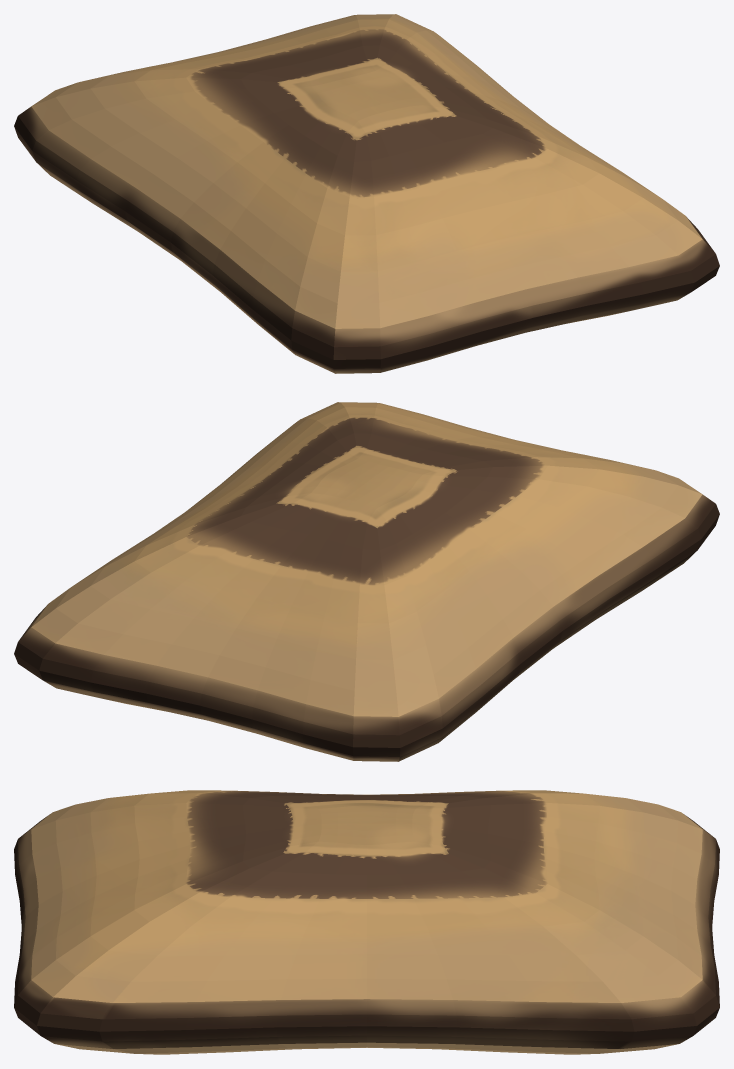
The model's file is Pillow.fbx.
3 renders of one model, top to bottom at view 1: azimuth 30°, elevation 25°; view 2: azimuth 150°, elevation 25°; view 3: azimuth 270°, elevation 25°, orthographic. The views are drawn at different scales.
Visible parts, largest first — view 1: Cube.001; view 2: Cube.001; view 3: Cube.001.
Part boxes in pixels (box(x1,y1,x2,y2)): Cube.001: box(14, 14, 719, 373); Cube.001: box(14, 402, 719, 761); Cube.001: box(14, 790, 719, 1054).
Bounding box in the file's own units: 1389 × 527 × 2004.
